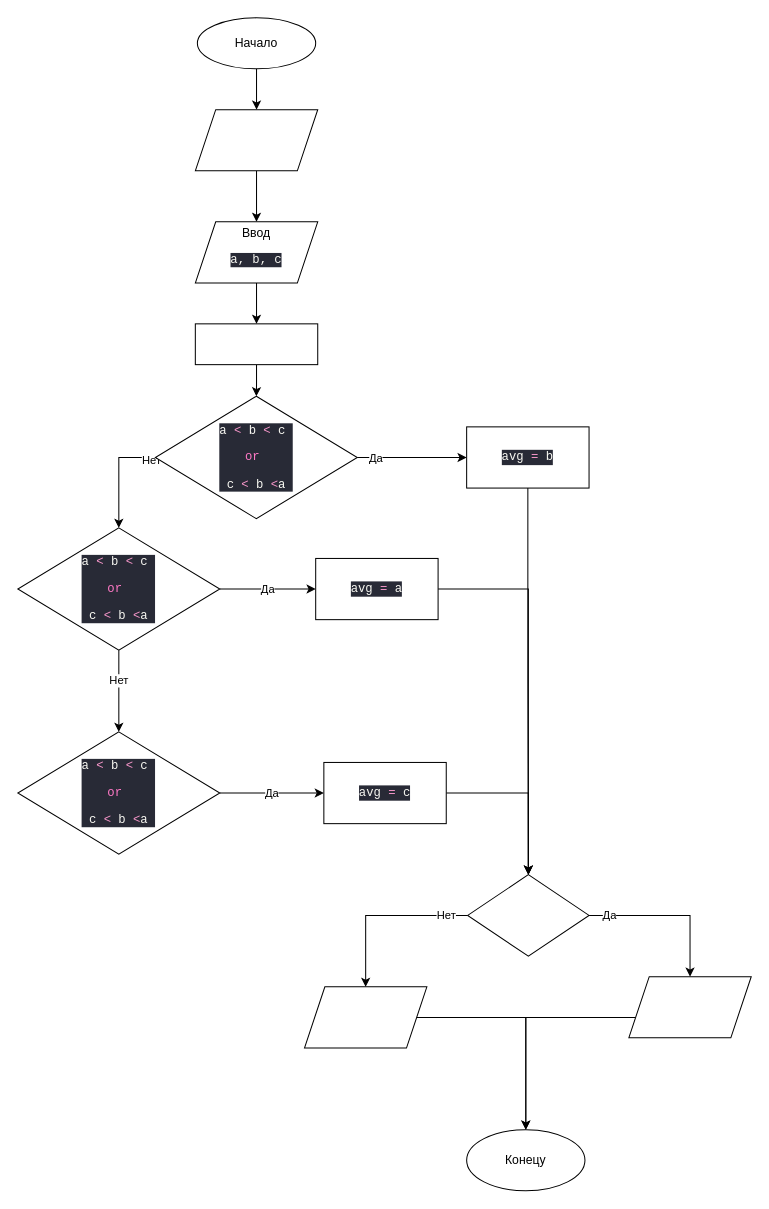
This 769x1209 diagram has some shape labels left out. Here are the shapes that lost their labels. From the top down, the centre of each, then its label:
At (x=256, y=140): "Вывод Введите три числа".
At (x=256, y=344): "avg = 0".
At (x=528, y=915): "avg".
At (x=365, y=1017): "Медианы нет".
At (x=689, y=1007): "Медиана avg".
